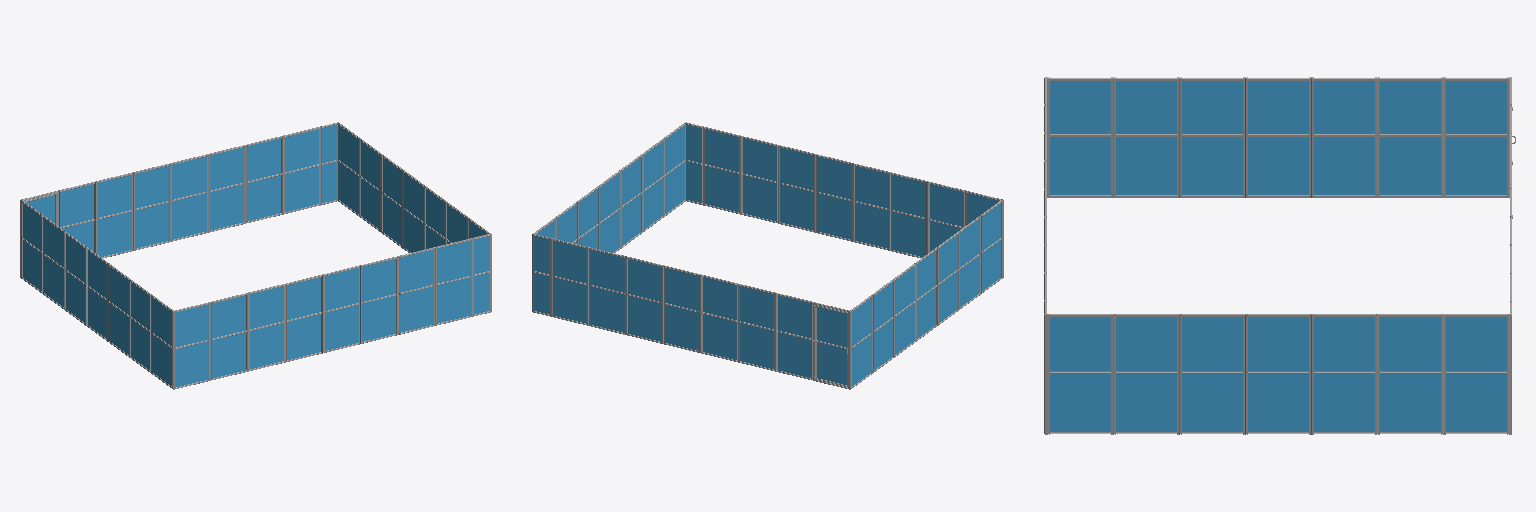
The robot description file, URDF, robot "FoFa":
<?xml version="1.0" ?>
<robot name="FoFa">
  <link name="baseLink">
    <contact>
      <lateral_friction value="1.0"/>
      <rolling_friction value="0.0"/>
      <contact_cfm value="0.0"/>
      <contact_erp value="0.8"/>
      <damping value=".0"/>
    </contact>
    <inertial>
      <origin rpy="0 0 0" xyz="0 0 0.0"/>
       <mass value="1"/>
       <inertia ixx="1" ixy="0" ixz="0" iyy="1" iyz="0" izz="2"/>
    </inertial>
    <visual>
      <origin rpy="0 0 0" xyz="0 0 0"/>
      <geometry>
		<mesh filename="mesh/Roboterzelle_DeMoBat_AgiloDrive.stl"/>
      </geometry>
       <material name="grey">
        <color rgba="0.7 0.7 0.7 1"/>
      </material>
    </visual>
    <collision concave="yes">
      <origin rpy="0 0 0" xyz="0 0 0"/>
      <geometry>
	 	<mesh filename="mesh/Roboterzelle_DeMoBat_AgiloDrive.stl"/>
      </geometry>
    </collision>
  </link>
  <link name="glassLink">
    <contact>
      <lateral_friction value="1.0"/>
      <rolling_friction value="0.0"/>
      <contact_cfm value="0.0"/>
      <contact_erp value="0.8"/>
      <damping value=".0"/>
    </contact>
    <inertial>
      <origin rpy="0 0 0" xyz="0 0 0.0"/>
       <mass value="1"/>
       <inertia ixx="1" ixy="0" ixz="0" iyy="1" iyz="0" izz="2"/>
    </inertial>
    <visual>
      <origin rpy="0 0 0" xyz="0 0 0"/>
      <geometry>
		<mesh filename="mesh/Roboterzelle_DeMoBat_AgiloDrive_Scheiben.stl"/>
      </geometry>
       <material name="glass">
          <color rgba="0.3, 0.3, 0.6, 0.3"/>
      </material>
    </visual>
    <collision concave="yes">
      <origin rpy="0 0 0" xyz="0 0 0"/>
      <geometry>
	 	<mesh filename="mesh/Roboterzelle_DeMoBat_AgiloDrive_Scheiben.stl"/>
      </geometry>
    </collision>
  </link>
  <link name="fenceLink">
    <contact>
      <lateral_friction value="1.0"/>
      <rolling_friction value="0.0"/>
      <contact_cfm value="0.0"/>
      <contact_erp value="0.8"/>
      <damping value=".0"/>
    </contact>
    <inertial>
      <origin rpy="0 0 0" xyz="0 0 0.0"/>
       <mass value="1"/>
       <inertia ixx="1" ixy="0" ixz="0" iyy="1" iyz="0" izz="2"/>
    </inertial>
    <visual>
      <origin rpy="0 0 0" xyz="0 0 0"/>
      <geometry>
		<mesh filename="mesh/Roboterzelle_DeMoBat_AgiloDrive_Zaun.stl"/>
      </geometry>
       <material name="grey">
        <color rgba="0.7 0.7 0.7 1"/>
      </material>
    </visual>
    <collision concave="yes">
      <origin rpy="0 0 0" xyz="0 0 0"/>
      <geometry>
	 	<mesh filename="mesh/Roboterzelle_DeMoBat_AgiloDrive_Zaun.stl"/>
      </geometry>
    </collision>
  </link>
  <joint name="glassJoint" type="fixed">
      <parent link="baseLink"/>
      <child link="glassLink"/>
      <origin xyz="0 0 0" rpy="0 0 0"/>
  </joint>
  <joint name="fenceLink" type="fixed">
      <parent link="baseLink"/>
      <child link="fenceLink"/>
      <origin xyz="0 0 0" rpy="0 0 0"/>
  </joint>

</robot>

--- What the picture shows (computed from the rendered views, not written in the file) ---
Views: 3 orthographic renders of the robot side by side, from view 1: azimuth 30°, elevation 25°; view 2: azimuth 150°, elevation 25°; view 3: azimuth 270°, elevation 25°.
Model FoFa with 3 links and 2 joints (2 fixed), rooted at baseLink, posed all joints at 0.
Links seen in each view (by area): view 1: glassLink, fenceLink; view 2: glassLink, fenceLink; view 3: glassLink, fenceLink.
Link boxes in pixels (box(x1,y1,x2,y2)): glassLink: box(23, 125, 489, 387); fenceLink: box(20, 122, 491, 389); glassLink: box(534, 125, 1000, 385); fenceLink: box(532, 122, 1003, 389); glassLink: box(1050, 81, 1506, 431); fenceLink: box(1044, 77, 1515, 434).
Size in the robot's own frame: 8500 by 7128 by 2000 metres.
Meshes: 3 distinct files referenced, 2 mesh visuals loaded (2 binary STL); not drawn: 1 (reference not matched to a file when rendering).